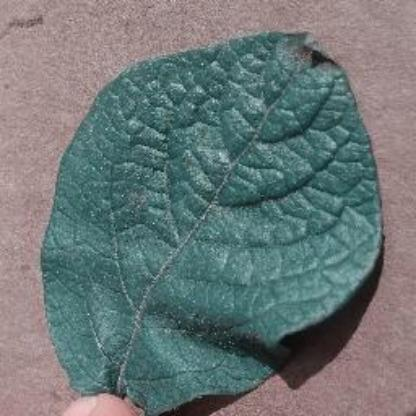Healthy-plant: (49, 35, 393, 402)
